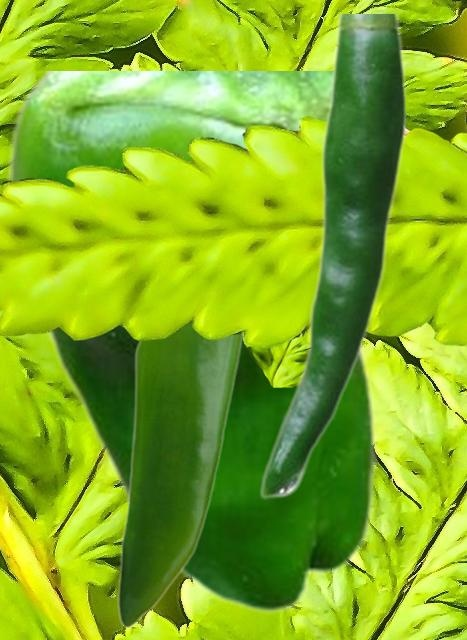green_chili: (5, 71, 375, 613), (258, 14, 404, 498), (117, 324, 244, 626)
